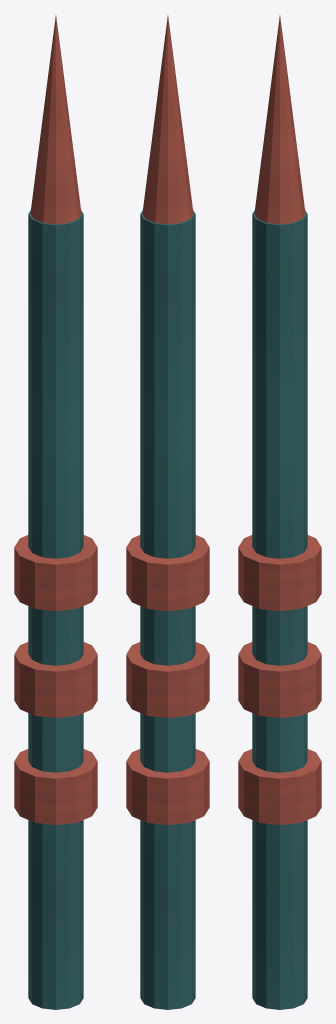
File: atlas100-s031-a05.glb
3 renders of one model, left to right at view 1: azimuth 30°, elevation 25°; view 2: azimuth 150°, elevation 25°; view 3: azimuth 330°, elevation 25°, orthographic.
Visible parts, largest first — view 1: atlas100-s031-a05:part-000, atlas100-s031-a05:part-004, atlas100-s031-a05:part-002, atlas100-s031-a05:part-003, atlas100-s031-a05:part-001; view 2: atlas100-s031-a05:part-000, atlas100-s031-a05:part-004, atlas100-s031-a05:part-002, atlas100-s031-a05:part-003, atlas100-s031-a05:part-001; view 3: atlas100-s031-a05:part-000, atlas100-s031-a05:part-004, atlas100-s031-a05:part-002, atlas100-s031-a05:part-003, atlas100-s031-a05:part-001.
Boxes of the visible parts, x1,y1,x2,y2 form: atlas100-s031-a05:part-000: [28, 210, 83, 1009]; atlas100-s031-a05:part-004: [30, 15, 81, 224]; atlas100-s031-a05:part-002: [14, 642, 97, 717]; atlas100-s031-a05:part-003: [14, 535, 97, 610]; atlas100-s031-a05:part-001: [14, 749, 97, 824]; atlas100-s031-a05:part-000: [140, 210, 195, 1009]; atlas100-s031-a05:part-004: [142, 15, 193, 224]; atlas100-s031-a05:part-002: [126, 642, 209, 717]; atlas100-s031-a05:part-003: [126, 535, 209, 610]; atlas100-s031-a05:part-001: [126, 749, 209, 824]; atlas100-s031-a05:part-000: [252, 210, 307, 1009]; atlas100-s031-a05:part-004: [254, 15, 305, 224]; atlas100-s031-a05:part-002: [238, 642, 321, 717]; atlas100-s031-a05:part-003: [238, 535, 321, 610]; atlas100-s031-a05:part-001: [238, 749, 321, 824].
Bounding box in the file's own units: 0.1158 × 1.51 × 0.1158.
Materials: 2 (2 with a texture image).
